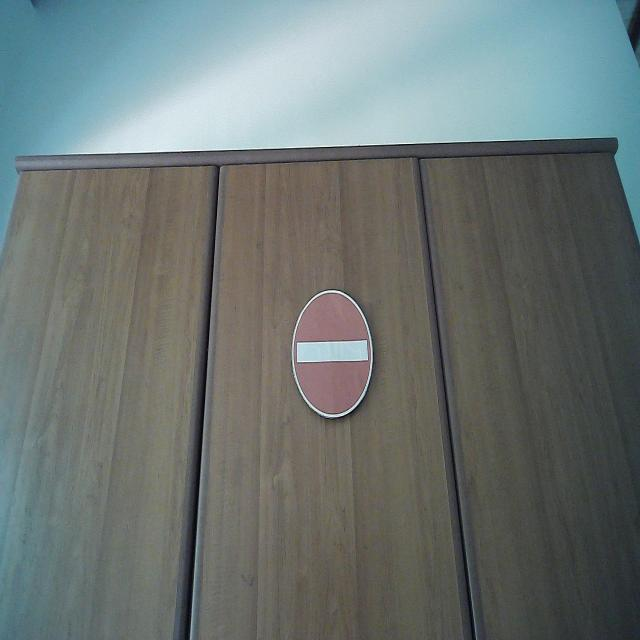no_entry: (290, 288, 375, 420)
